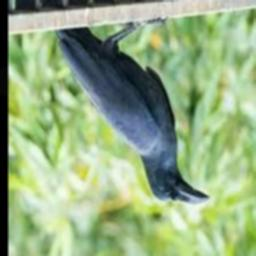Crow: (42, 0, 211, 205)
